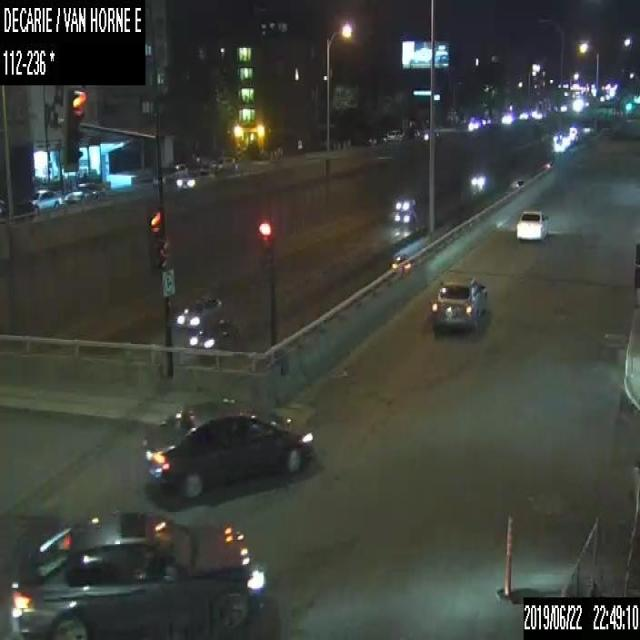construction: (492, 513, 520, 603)
vehicle: (9, 509, 266, 639), (142, 397, 314, 499), (429, 273, 486, 331), (176, 296, 222, 326), (188, 318, 238, 345), (516, 208, 548, 237), (150, 162, 188, 185), (174, 170, 216, 189), (26, 187, 61, 209), (63, 185, 99, 202), (210, 156, 235, 172), (394, 194, 414, 211), (389, 252, 408, 268), (384, 128, 404, 140), (470, 170, 487, 184)
